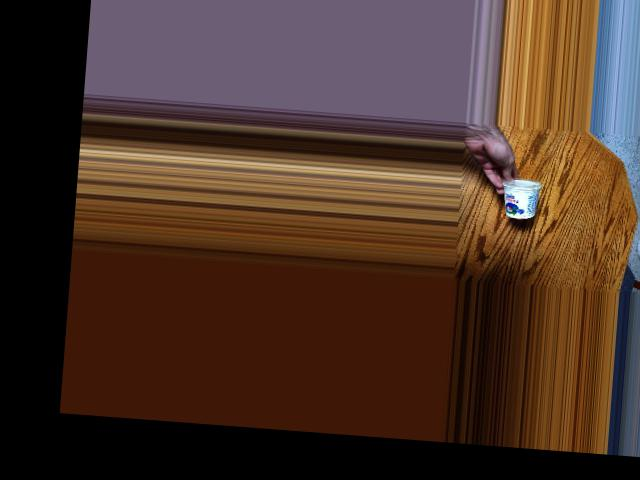cotage: (492, 169, 546, 220)
